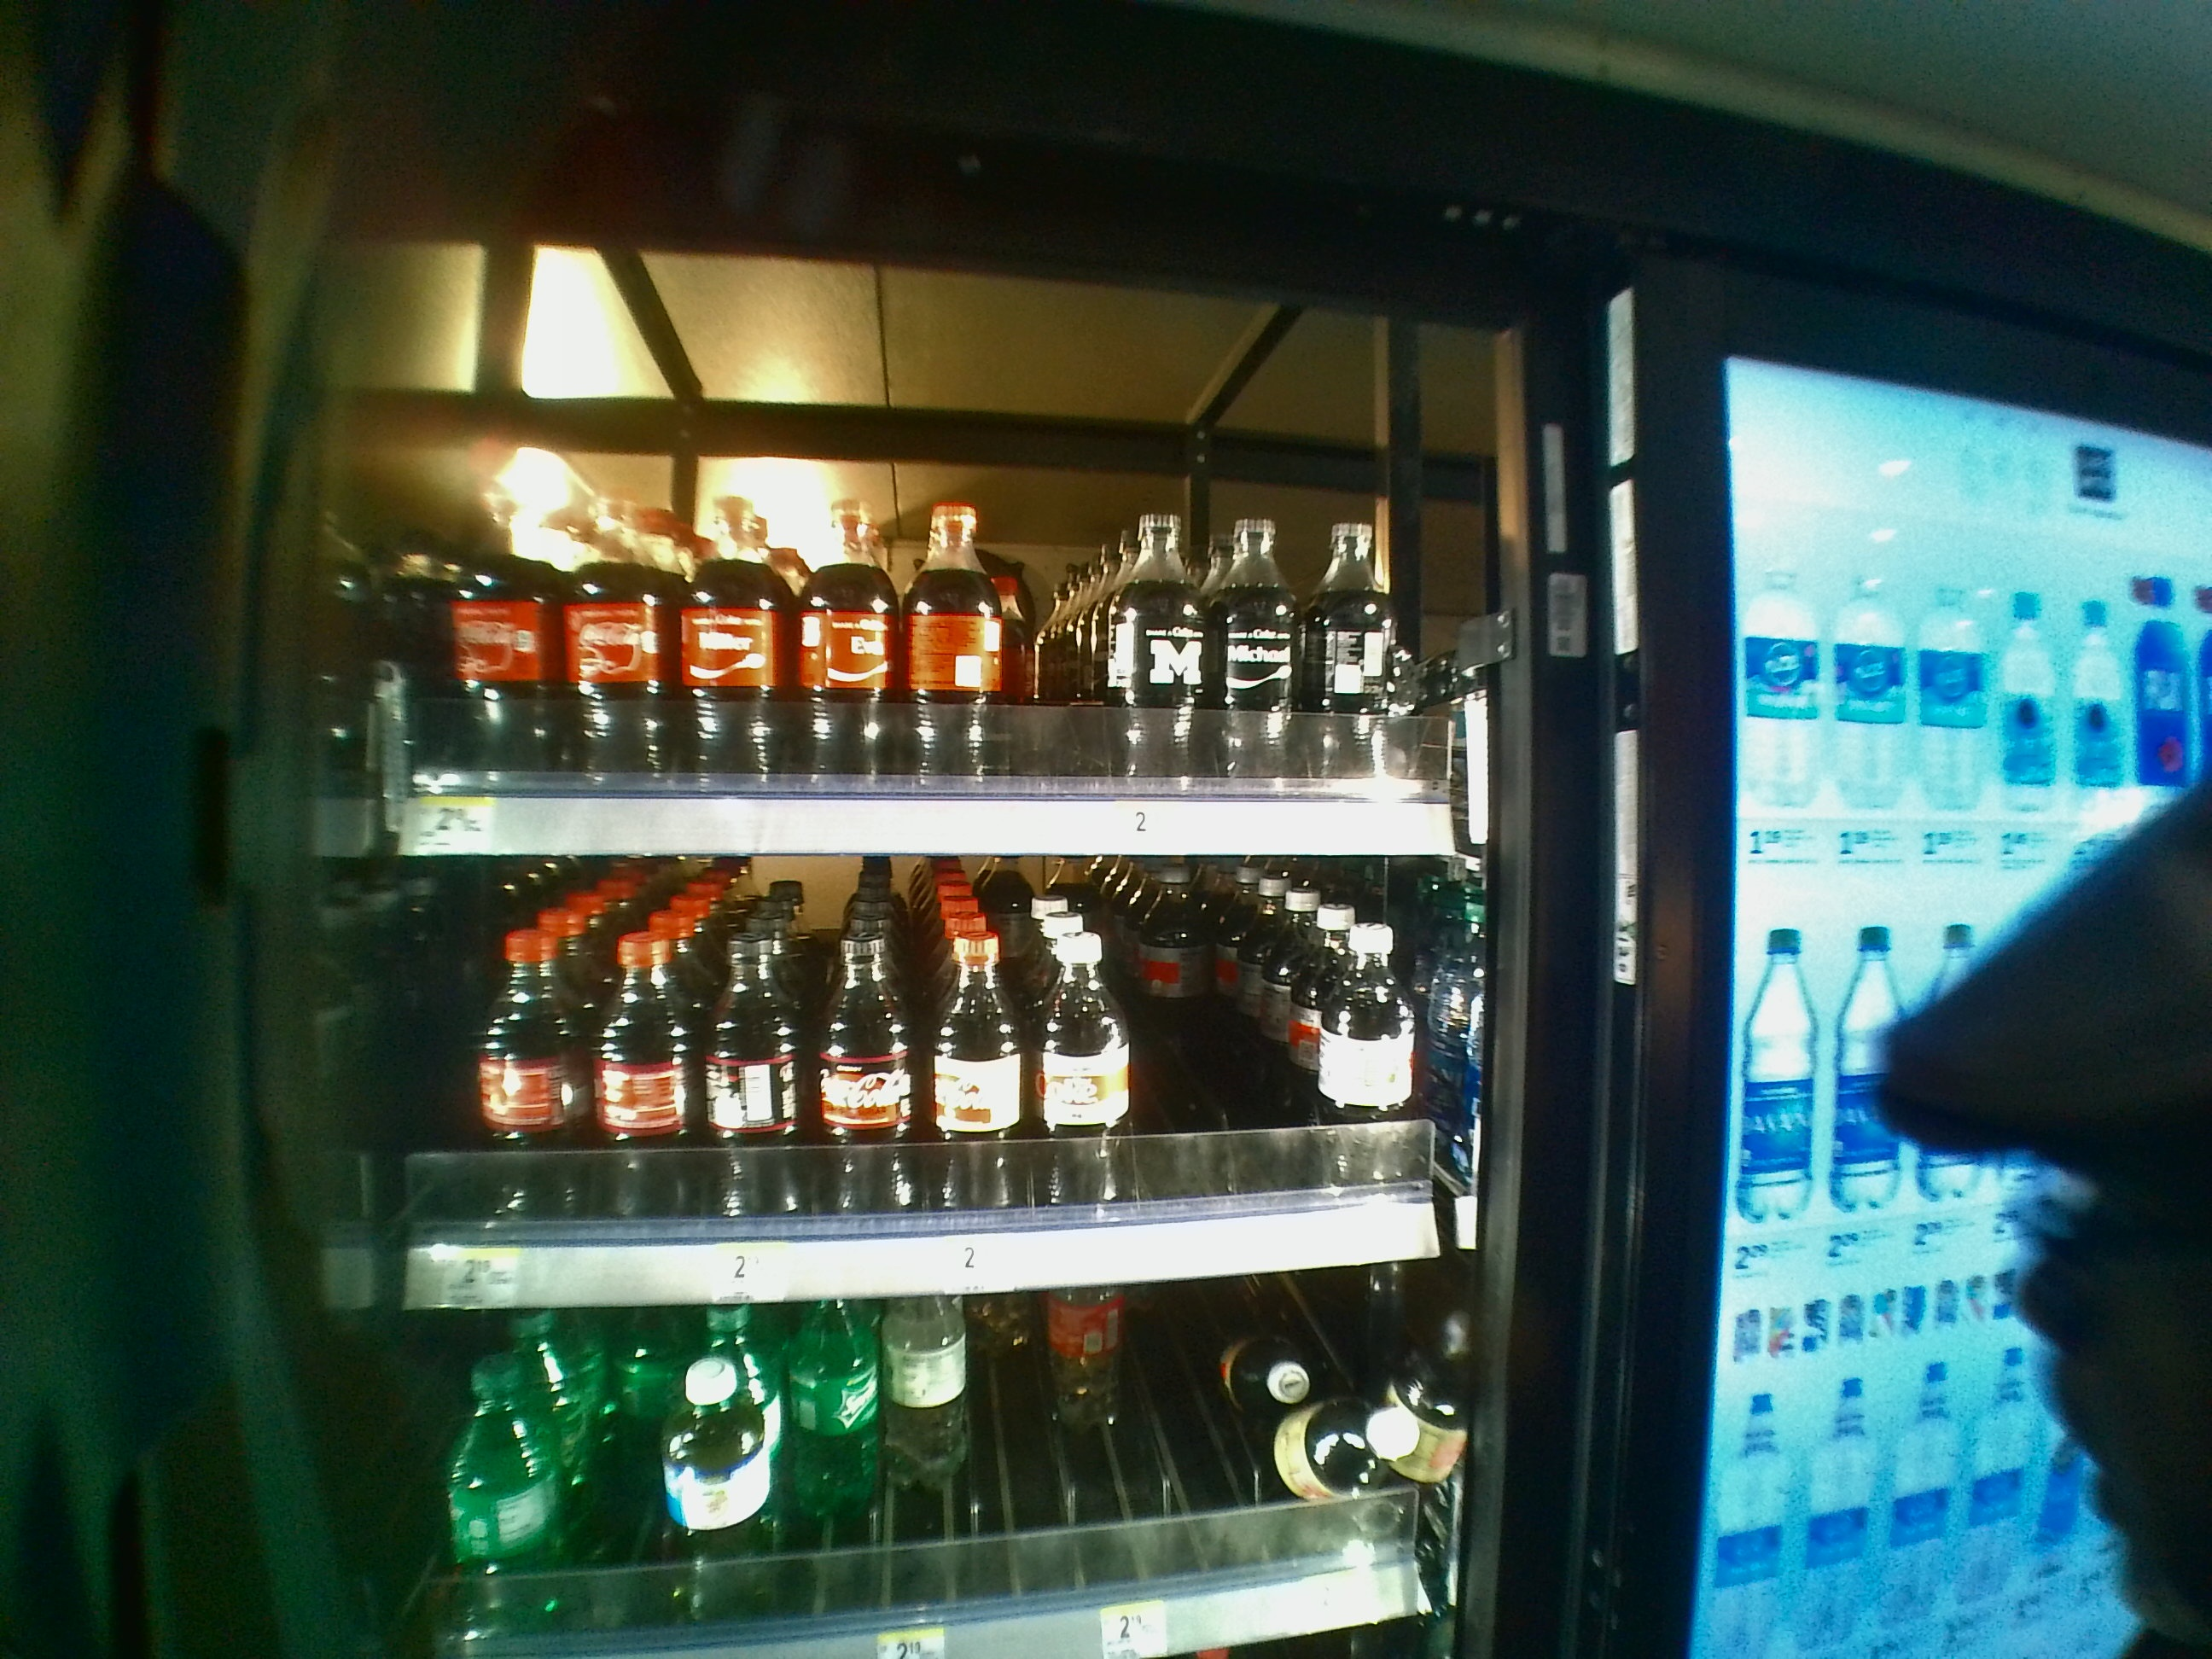shelf: (401, 331, 1463, 859), (404, 871, 1468, 1303)
